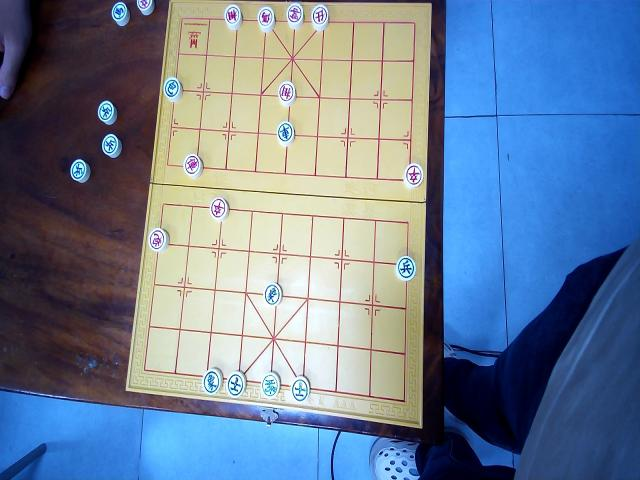piece: (226, 370, 246, 399), (202, 367, 222, 395), (290, 376, 310, 404), (261, 371, 281, 399), (402, 163, 423, 189), (396, 255, 416, 281), (97, 100, 117, 126), (148, 227, 168, 253), (183, 154, 203, 180), (110, 1, 130, 27), (311, 4, 329, 32), (224, 3, 242, 31), (256, 5, 274, 33), (70, 159, 90, 184), (101, 133, 121, 158), (163, 76, 182, 102), (209, 196, 228, 221), (278, 80, 296, 106), (286, 3, 304, 29), (264, 282, 282, 307), (276, 121, 294, 145), (136, 0, 154, 16)
